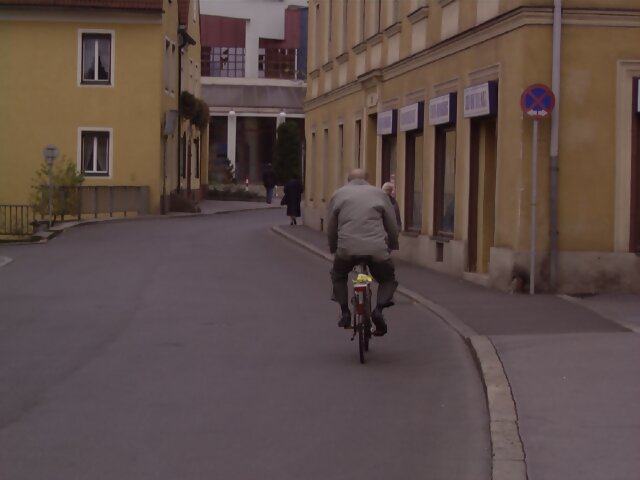person: (327, 164, 403, 338)
